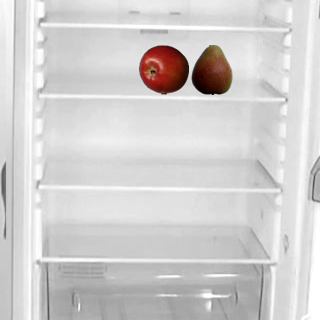Apple Braeburn: (138, 44, 188, 94)
Pear Forelle: (186, 44, 236, 94)
